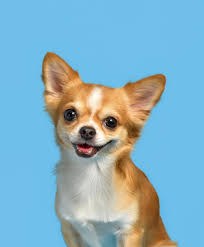Chihuahua: (25, 34, 186, 247)
